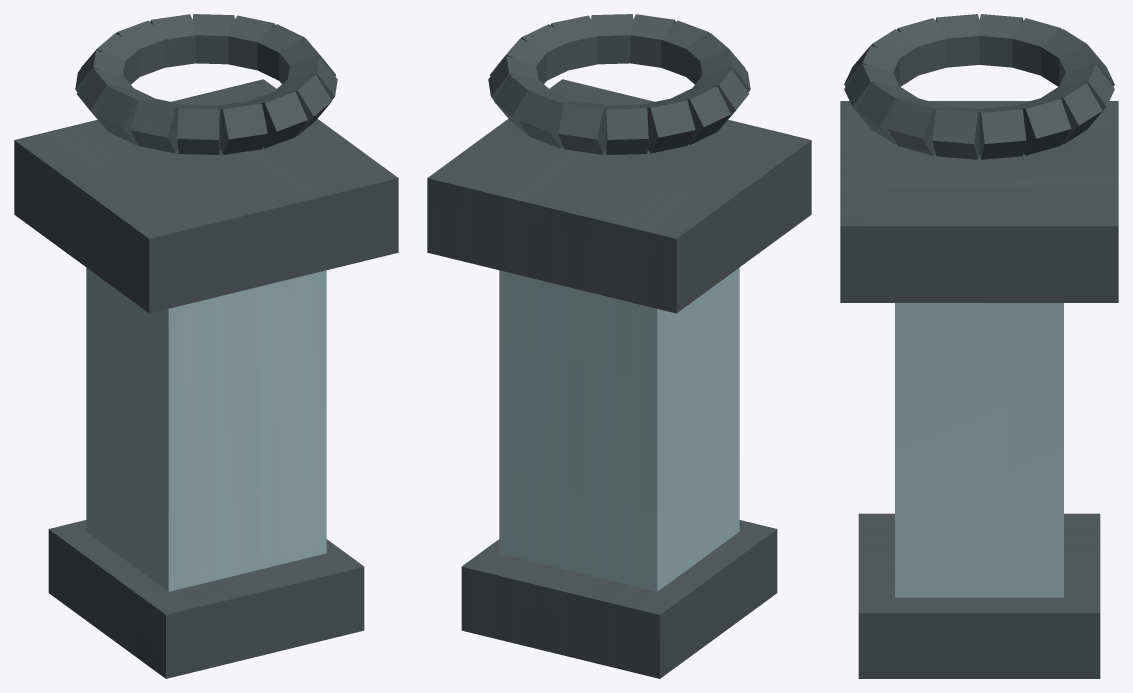
File: 6-hafenlaterne.glb
3 renders of one model, left to right at view 1: azimuth 30°, elevation 25°; view 2: azimuth 150°, elevation 25°; view 3: azimuth 270°, elevation 25°, orthographic. The views are drawn at different scales.
Visible parts, largest first — view 1: coastal_lantern_iron, coastal_lantern_glass; view 2: coastal_lantern_iron, coastal_lantern_glass; view 3: coastal_lantern_iron, coastal_lantern_glass.
Part boxes in pixels (x1,y1,x2,y2): coastal_lantern_iron: (14, 14, 398, 678); coastal_lantern_glass: (86, 267, 326, 591); coastal_lantern_iron: (427, 14, 811, 678); coastal_lantern_glass: (499, 267, 739, 591); coastal_lantern_iron: (840, 14, 1118, 678); coastal_lantern_glass: (895, 303, 1063, 597).
Bounding box in the file's own units: 0.49 × 1.03 × 0.46.
2 materials, 2 textured.
